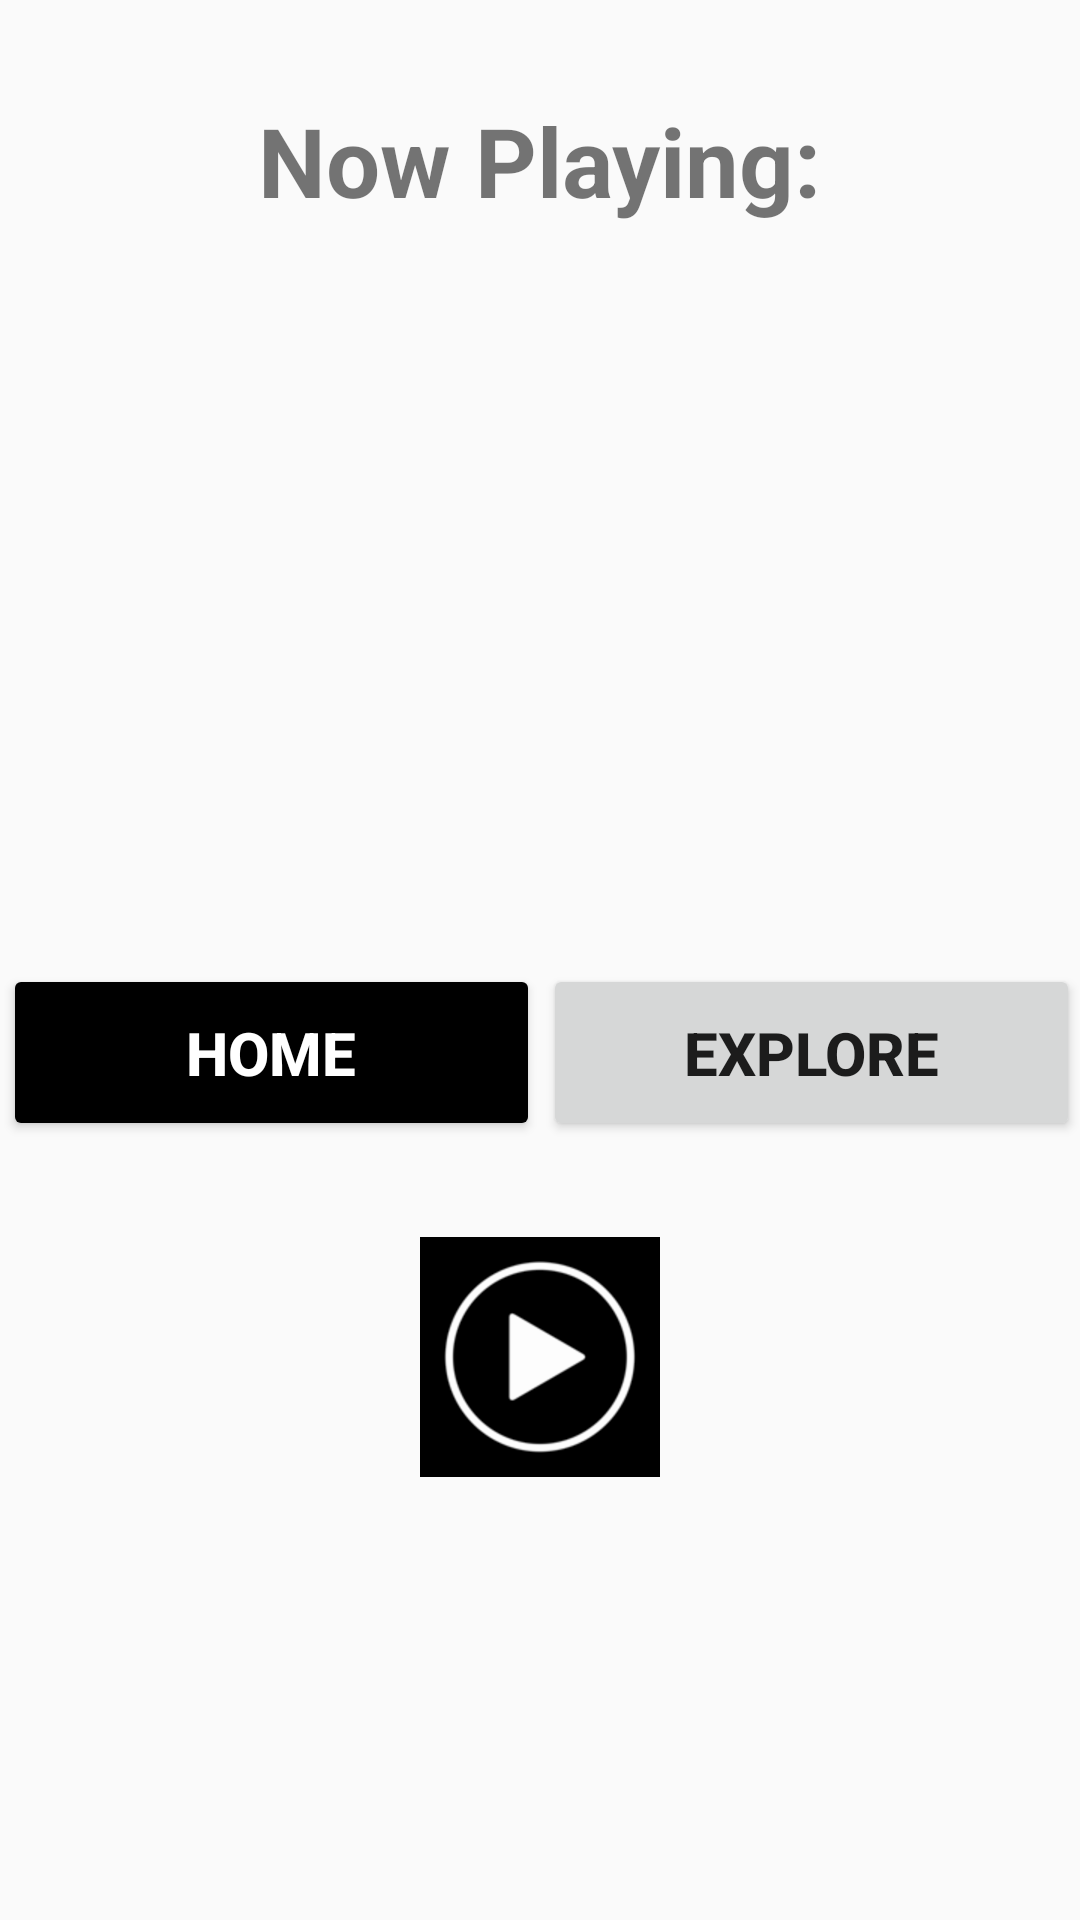

Icons on this 1080x1920 Android screen, each with the point to tap as (x,y):
whiteplaybutton: (540,1357)
